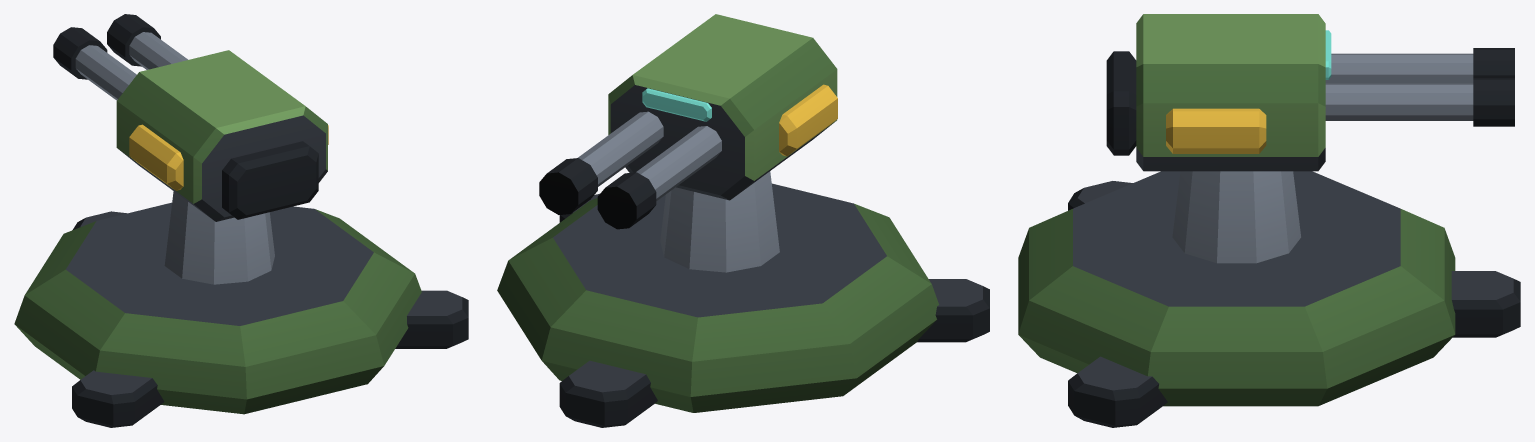
The model's file is Turret.fbx.
The picture shows the model from 3 angles, left to right: view 1: azimuth 30°, elevation 25°; view 2: azimuth 150°, elevation 25°; view 3: azimuth 270°, elevation 25°; orthographic projection. The views are drawn at different scales.
Visible parts, largest first — view 1: Base, Head, Feet, Neck; view 2: Base, Head, Neck, Feet, HeadGlow; view 3: Base, Head, Neck, Feet.
Boxes of the visible parts, left/top/right/bottom form: Base: left=14, top=202, right=421, bottom=414; Head: left=53, top=14, right=328, bottom=221; Feet: left=72, top=211, right=468, bottom=427; Neck: left=164, top=191, right=274, bottom=284; Base: left=497, top=183, right=938, bottom=412; Head: left=539, top=14, right=837, bottom=229; Neck: left=660, top=171, right=779, bottom=272; Feet: left=559, top=193, right=989, bottom=427; HeadGlow: left=642, top=88, right=711, bottom=121; Base: left=1018, top=171, right=1455, bottom=406; Head: left=1106, top=14, right=1514, bottom=171; Neck: left=1172, top=171, right=1300, bottom=263; Feet: left=1068, top=181, right=1520, bottom=427.
Bounding box in the file's own units: 0.8714 × 0.53 × 0.8496.
Materials: 2 (2 with a texture image).
